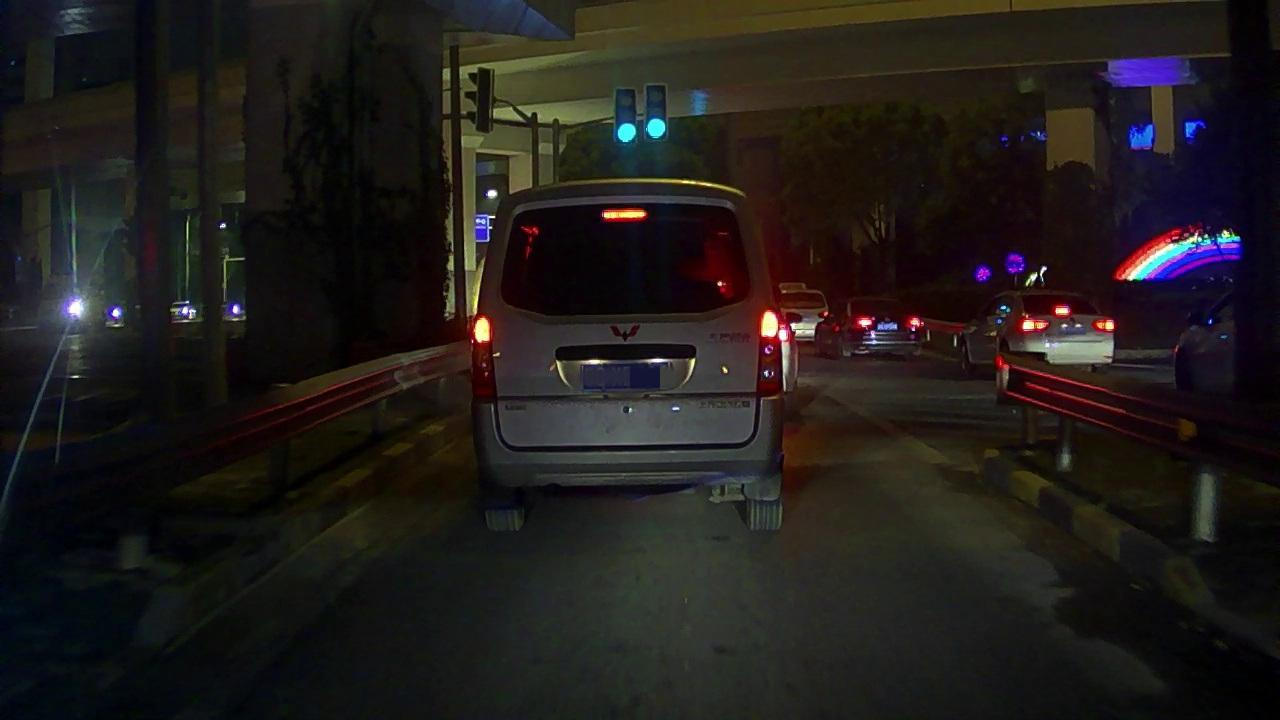traffic_light: (644, 85, 666, 141), (616, 89, 636, 145)
